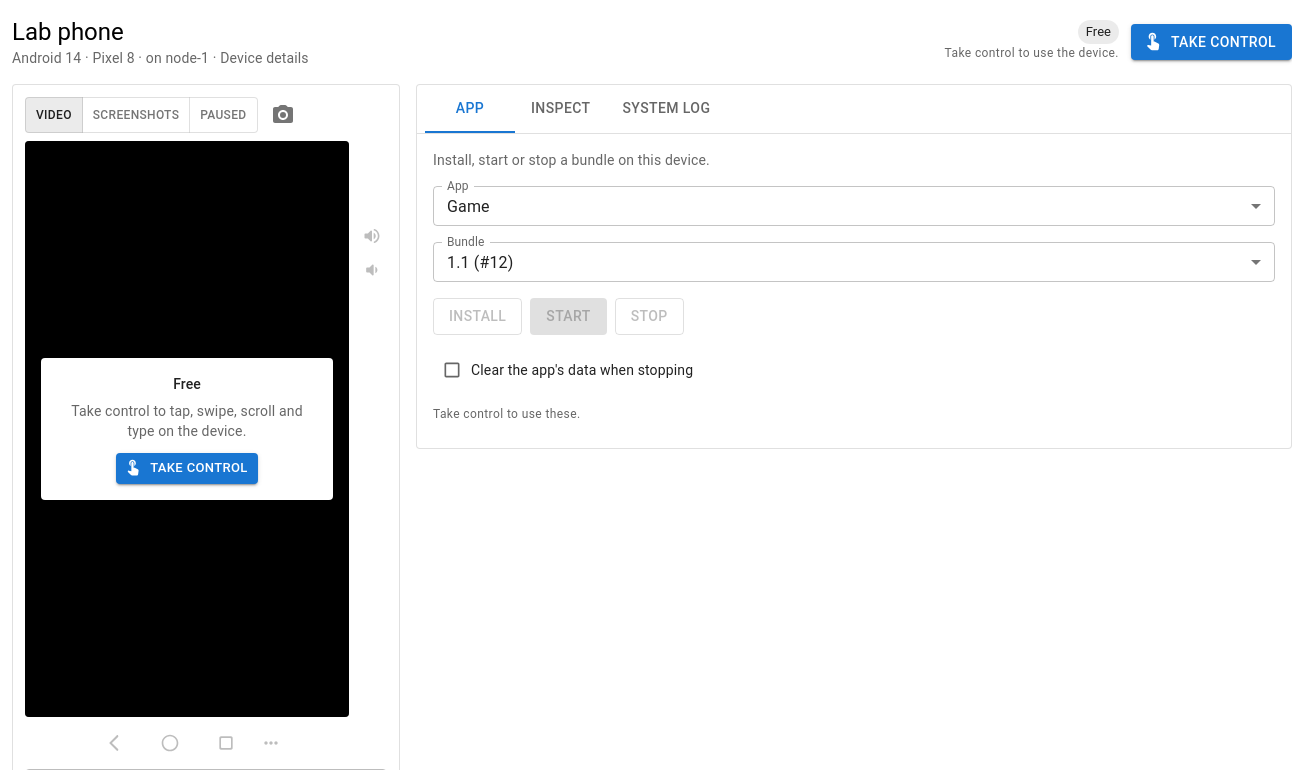
Test: the control page: app actions › shows why an action failed
Check: the heading "Lab phone" is shown, box [12,18,124,46]
Click the button "Take control" next to "Take control to use the device.".
click(1211, 42)  # box [1131,24,1292,60]
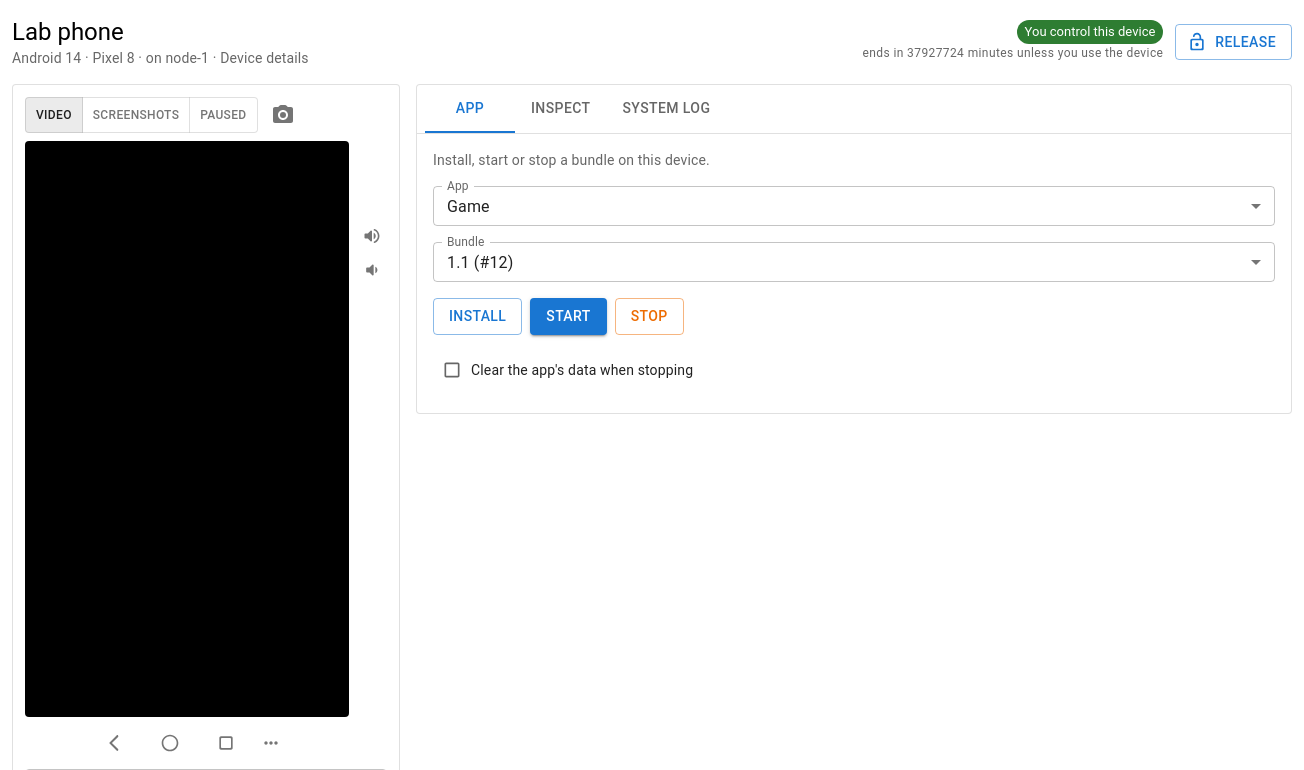
Check: the text "You control this device" is shown, box [1017,22,1163,42]
Check: the button "Start" is enabled
Click the button "Start".
click(568, 316)  # box [530,298,607,334]
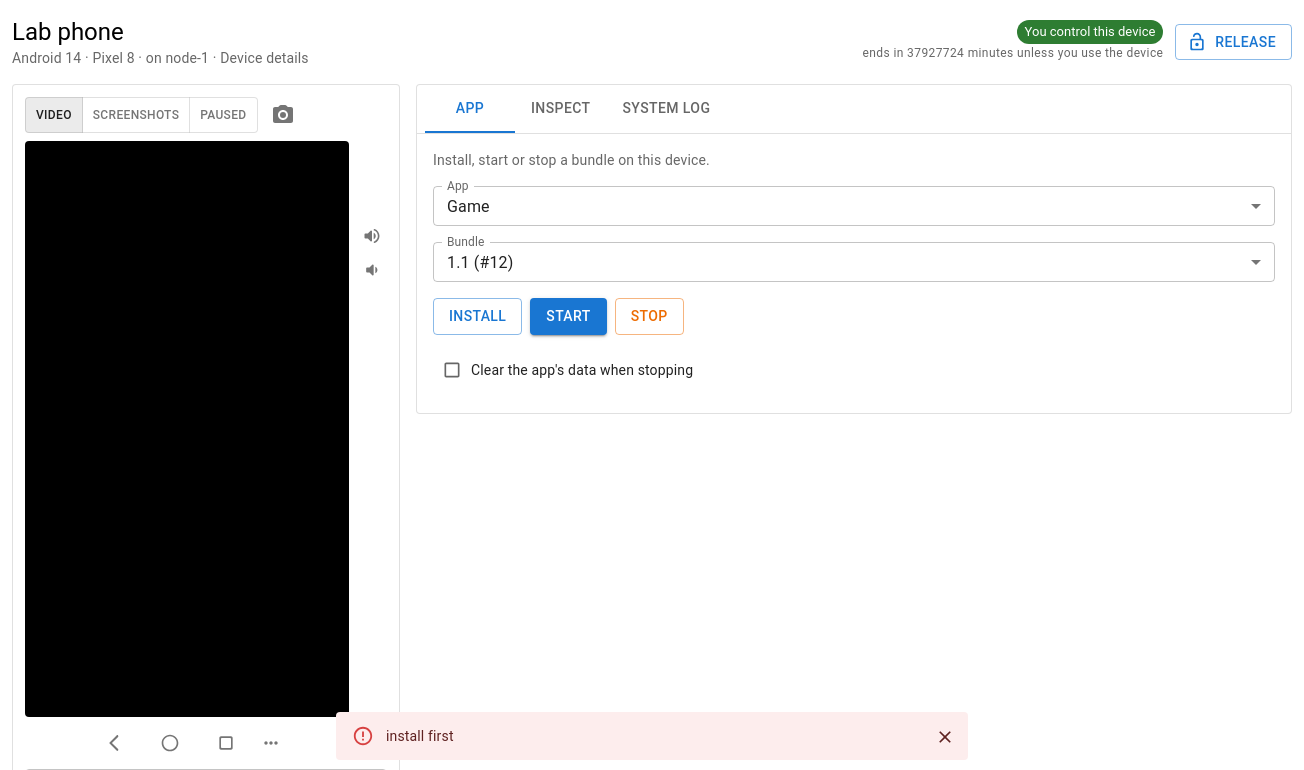
Check: the message reads "install first", box [386,728,454,744]
